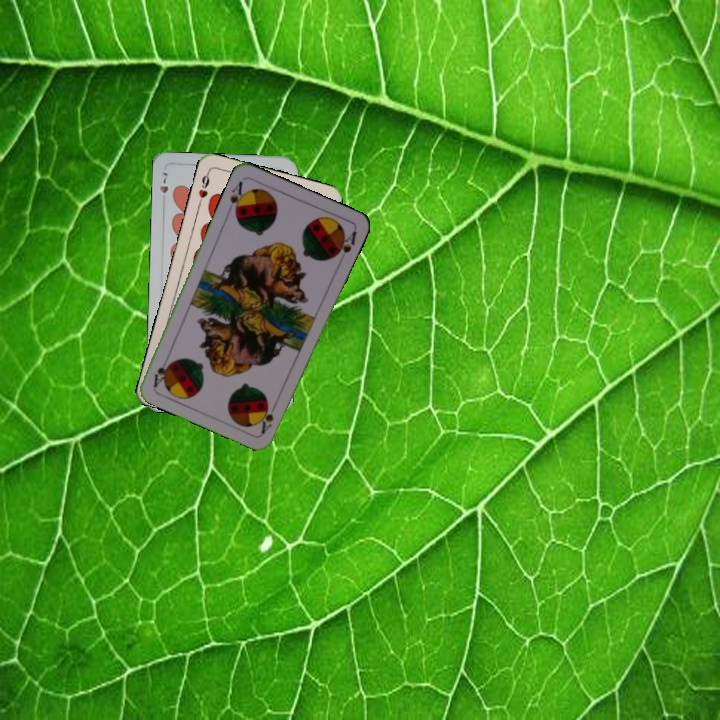H7: (156, 168, 171, 196)
H9: (194, 167, 212, 207)
SA: (224, 177, 249, 217), (256, 398, 280, 436)
